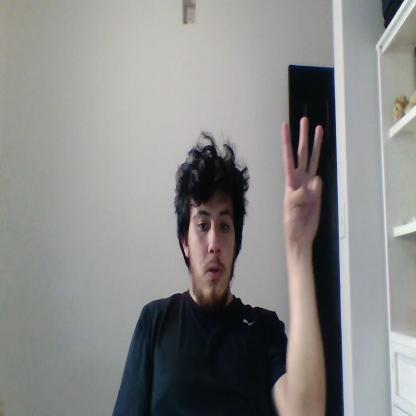W: (283, 116, 324, 243)
